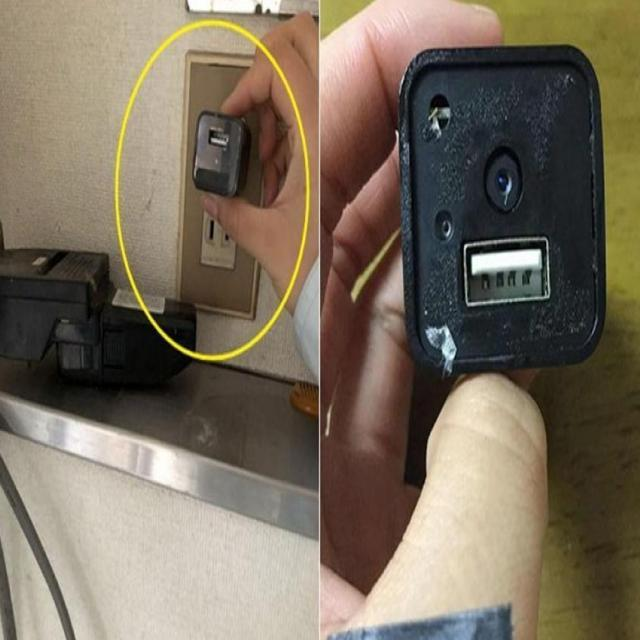hidden camera: (479, 147, 526, 215), (209, 147, 223, 174)
